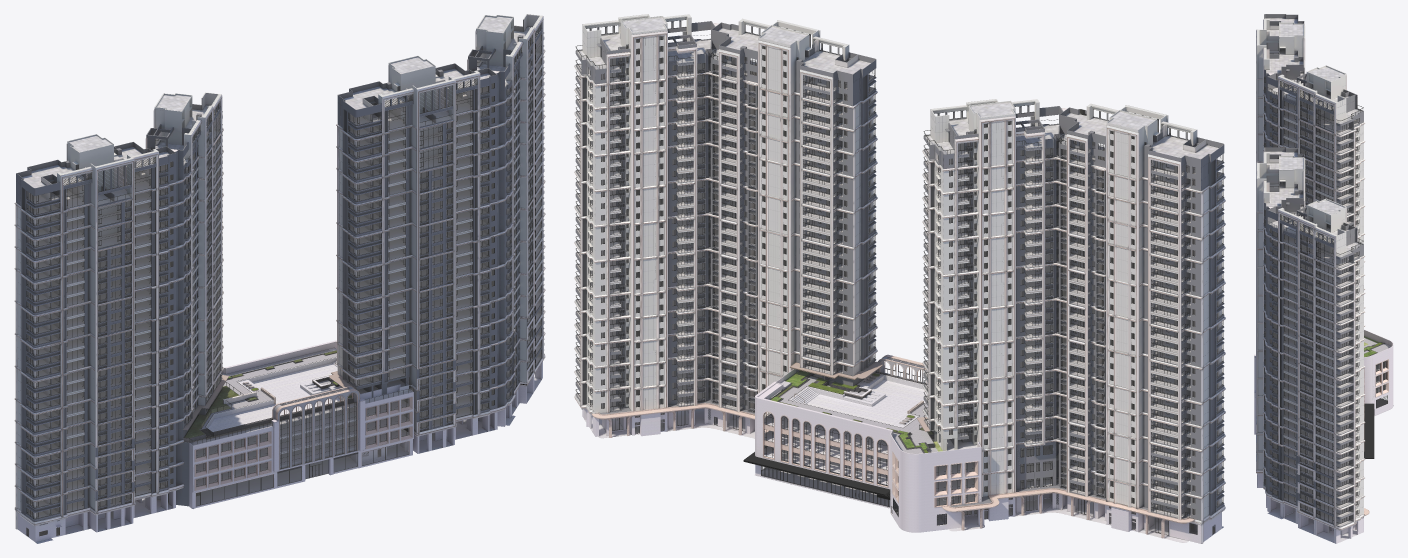
The picture shows the model from 3 angles, left to right: view 1: azimuth 30°, elevation 25°; view 2: azimuth 150°, elevation 25°; view 3: azimuth 270°, elevation 25°; orthographic projection. The views are drawn at different scales.
Visible parts, largest first — view 1: NO2n3_IntWall, NO2n3_Floor, NO3_WinFrame, NO2_Winframe, NO2_Wall_A, NO3_Wall_A, NO2_Wall_B, NO3_Wall_B, NO2-3Pool, NO2-3Pool_WinFrame, NO2-3Pool_Floor; view 2: NO2n3_IntWall, NO2n3_Floor, NO2_Wall_A, NO3_Wall_A, NO3_Wall_B, NO2_Wall_B, NO3_WinFrame, NO2_Winframe, NO2-3Pool, NO2-3Pool_Floor, NO2-3Pool_WinFrame; view 3: NO2n3_IntWall, NO2_Winframe, NO2n3_Floor, NO2_Wall_A, NO3_Wall_A, NO2_Wall_B, NO3_WinFrame, NO2-3Pool, NO2-3Pool_WinFrame, NO2-3Pool_Floor.
Boxes of the visible parts, bbox=[...] form: NO2n3_IntWall: bbox=[14, 14, 545, 543]; NO2n3_Floor: bbox=[29, 52, 541, 517]; NO3_WinFrame: bbox=[22, 103, 222, 536]; NO2_Winframe: bbox=[344, 23, 544, 456]; NO2_Wall_A: bbox=[337, 14, 544, 375]; NO3_Wall_A: bbox=[16, 92, 222, 509]; NO2_Wall_B: bbox=[337, 179, 544, 463]; NO3_Wall_B: bbox=[17, 258, 222, 542]; NO2-3Pool: bbox=[168, 340, 413, 508]; NO2-3Pool_WinFrame: bbox=[183, 357, 413, 506]; NO2-3Pool_Floor: bbox=[192, 385, 408, 508]; NO2n3_IntWall: bbox=[574, 14, 1225, 543]; NO2n3_Floor: bbox=[577, 46, 1217, 517]; NO2_Wall_A: bbox=[575, 14, 876, 382]; NO3_Wall_A: bbox=[923, 99, 1224, 332]; NO3_Wall_B: bbox=[923, 288, 1224, 543]; NO2_Wall_B: bbox=[575, 203, 876, 436]; NO3_WinFrame: bbox=[923, 104, 1223, 535]; NO2_Winframe: bbox=[575, 19, 875, 433]; NO2-3Pool: bbox=[755, 354, 1058, 532]; NO2-3Pool_Floor: bbox=[754, 391, 1052, 531]; NO2-3Pool_WinFrame: bbox=[743, 368, 974, 525]; NO2n3_IntWall: bbox=[1256, 19, 1369, 542]; NO2_Winframe: bbox=[1264, 186, 1363, 525]; NO2n3_Floor: bbox=[1273, 53, 1357, 526]; NO2_Wall_A: bbox=[1257, 147, 1363, 377]; NO3_Wall_A: bbox=[1257, 14, 1363, 234]; NO2_Wall_B: bbox=[1257, 324, 1363, 543]; NO3_WinFrame: bbox=[1264, 53, 1363, 241]; NO2-3Pool: bbox=[1254, 329, 1393, 451]; NO2-3Pool_WinFrame: bbox=[1364, 361, 1387, 458]; NO2-3Pool_Floor: bbox=[1375, 361, 1393, 415].
Bounding box in the file's own units: 166 × 106 × 42.4.
13 materials, 8 textured.
